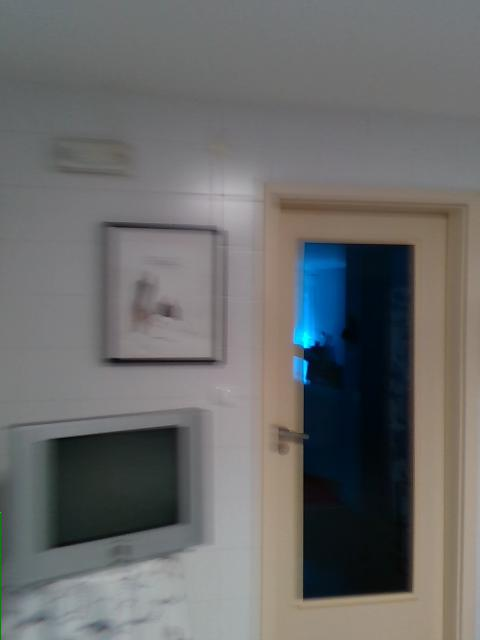door: (256, 178, 475, 639)
